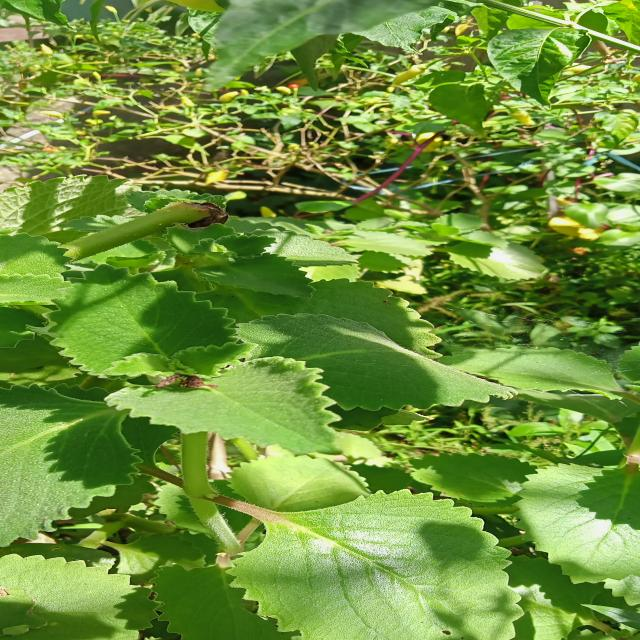Oregano: (155, 458, 548, 640), (18, 269, 370, 460)
